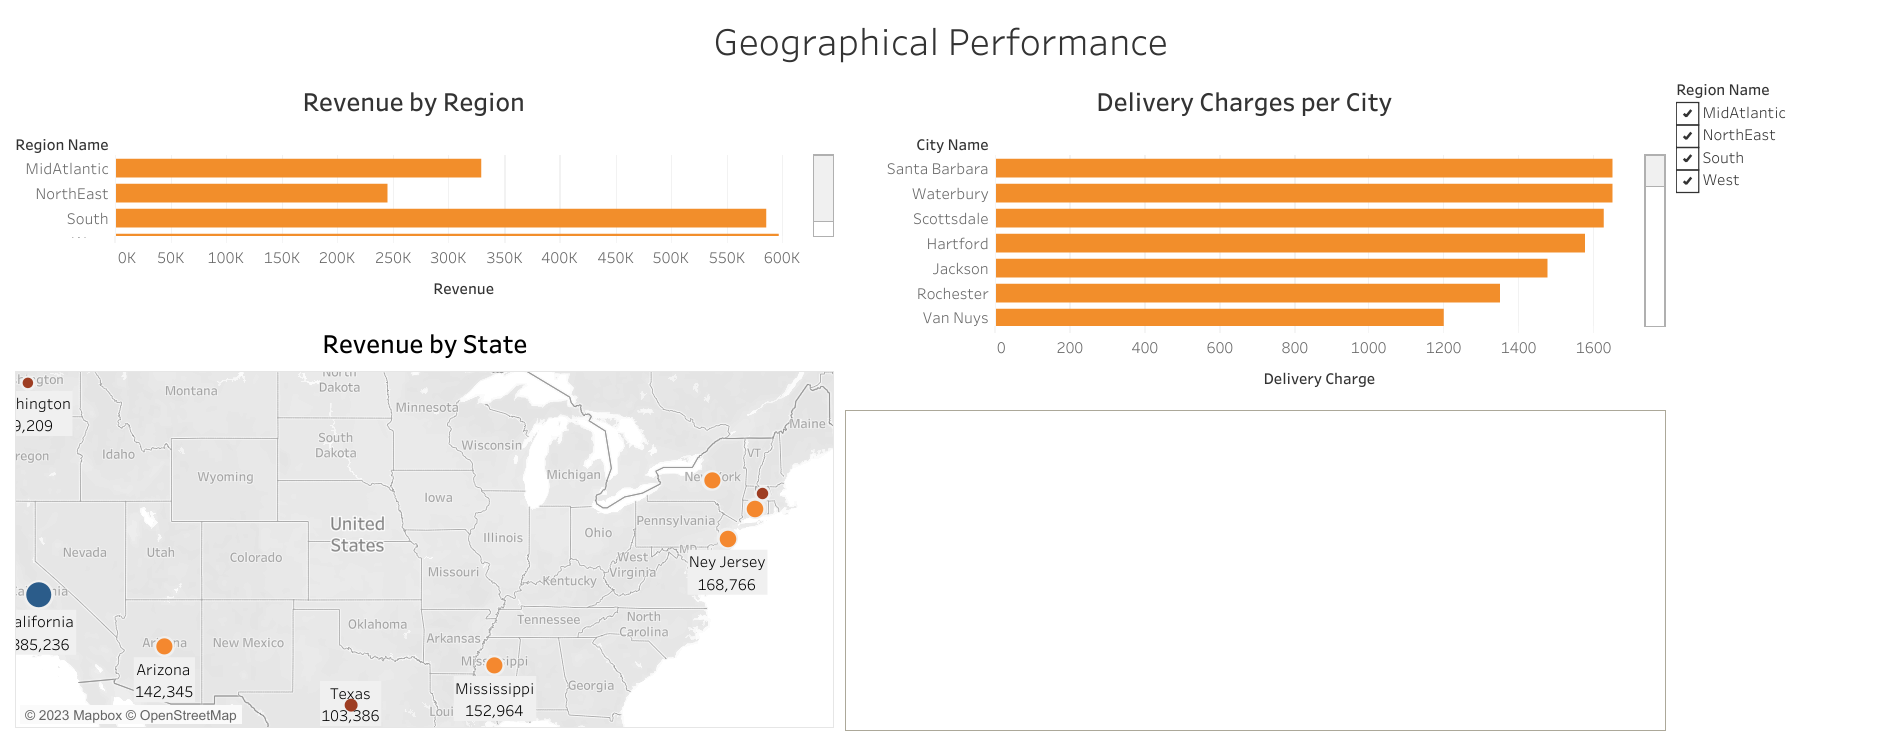

What the dashboard file says about the page in this screenshot:
{"tool":"tableau","page":{"name":"Geographical Performance","canvas":[1000,1000],"units":"permille","ordinal":1},"visuals":[{"type":"title","box":[4.8,9.4,990.3,70.5]},{"type":"worksheet","title":"Revenue by Region","mark":"Automatic","rows":["Region_Name"],"cols":["Calculation_164099934292008961"],"box":[4.8,79.9,446.9,331.4]},{"type":"worksheet","title":"Delivery Charges per City","mark":"Automatic","rows":["City_Name"],"cols":["Delivery_Charge"],"box":[451.7,79.9,446.9,455.3]},{"type":"filter","title":"Delivery Charges per City","param":"[federated.0u0hkam144xvbj1h3fojy04cpbn4].[none:Region_Name:nk]","box":[898.6,79.9,96.6,177.4]},{"type":"worksheet","title":"Revenue by State","mark":"Automatic","box":[4.8,411.3,446.9,579.3]},{"type":"web page","param":"https://en.wikipedia.org/wiki/Florida","box":[451.7,535.2,446.9,455.4]}]}

Visuals, with their boxes on the dashboard's canvas, which has no fixed pixel size, in thousandths of its width and height (x1, y1, x2, y2). These are canvas units, not pixel positions in the 1880x743 screenshot, which may show the page scaled, cropped or inside an application window:
title: region(5, 9, 995, 80)
"Revenue by Region" worksheet: region(5, 80, 452, 411)
"Delivery Charges per City" worksheet: region(452, 80, 899, 535)
"Delivery Charges per City" filter: region(899, 80, 995, 257)
"Revenue by State" worksheet: region(5, 411, 452, 991)
web page: region(452, 535, 899, 991)
